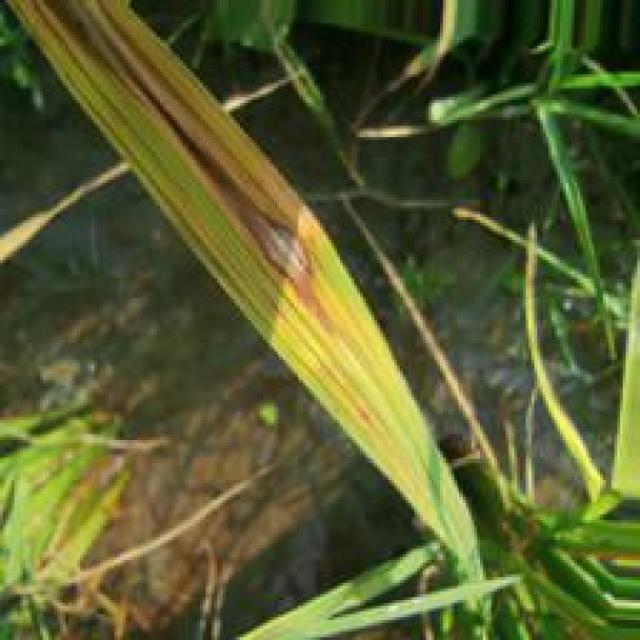Rice Tungro: (36, 0, 335, 339)
